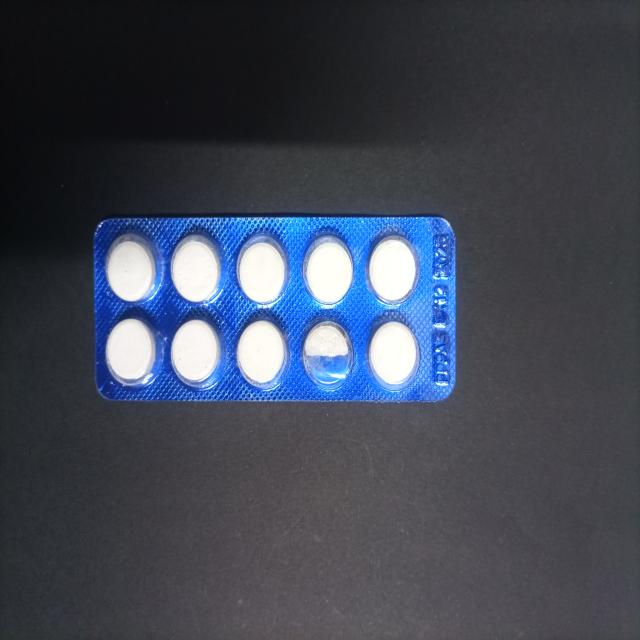defect: (301, 315, 356, 396)
